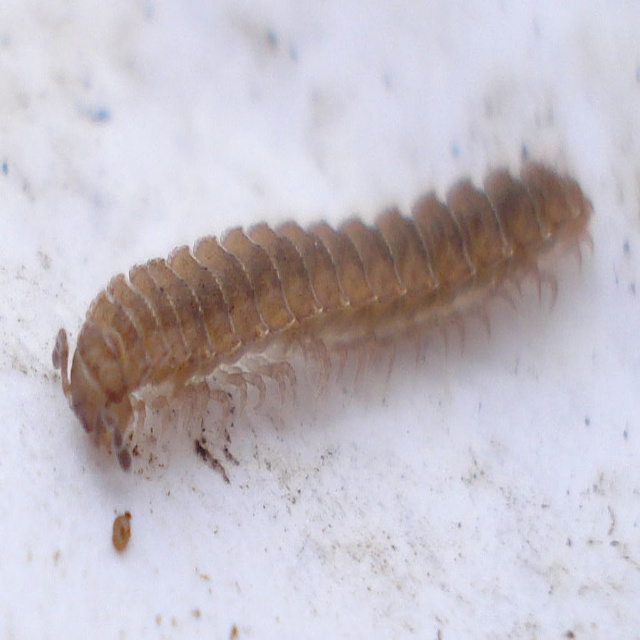Centipede: (49, 151, 595, 472)
